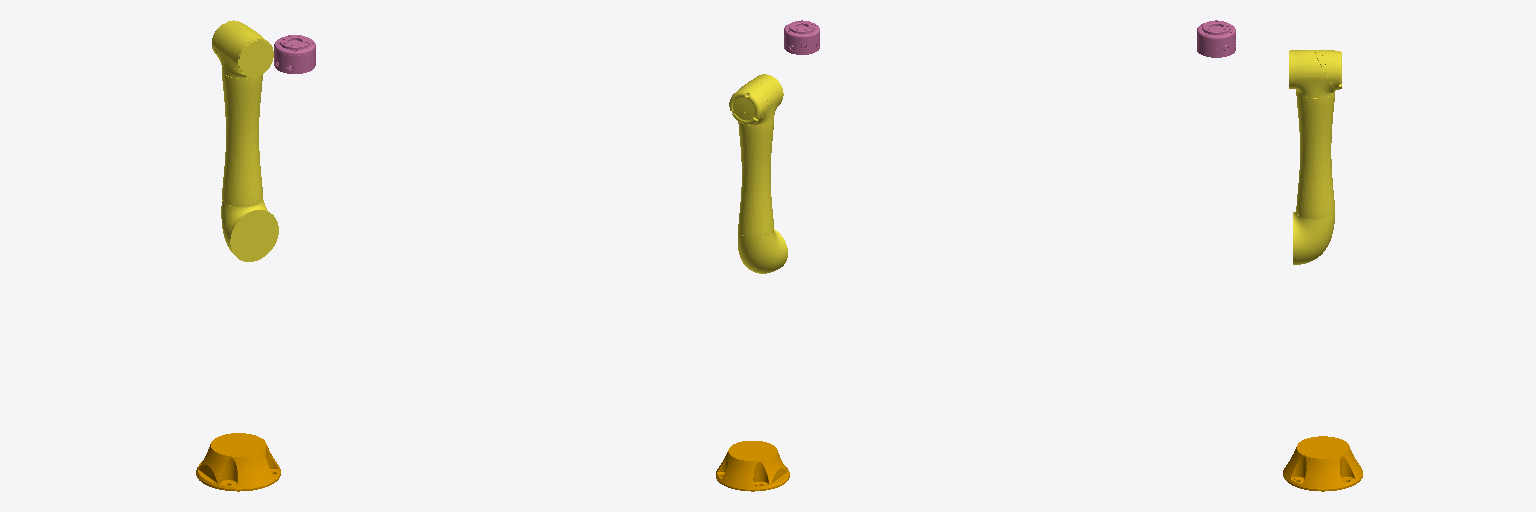
robot.urdf — tm5x-900:
<?xml version="1.0" ?>
<robot name="tm5x-900">

  <link name="link_0">
    <visual>
      <geometry>
        <mesh filename="package://tmr_description/meshes/tm5x-900/visual/tm5_base.obj"/>
      </geometry>
    </visual>
    <collision>
      <geometry>
        <mesh filename="package://tmr_description/meshes/tm5x-900/collision/tm5_base_c.stl"/>
      </geometry>
    </collision>
  </link>

  <joint name="joint_1" type="revolute">
    <parent link="link_0"/>
    <child link="link_1"/>
    <origin xyz="0 0 0.1452" rpy="0 0 0"/>
    <axis xyz="0 0 1"/>
    <limit effort="100.0" lower="-3.14" upper="3.14" velocity="1.0"/>
  </joint>

  <link name="link_1">
    <visual>
      <geometry>
        <mesh filename="package://tmr_description/meshes/tmxx-900/visual/tmr_400w_01.obj"/>
      </geometry>
    </visual>
    <collision>
      <geometry>
        <mesh filename="package://tmr_description/meshes/tm5x-900/collision/tmr_400w_01_c.stl"/>
      </geometry>
    </collision>
  </link>

  <joint name="joint_2" type="revolute">
    <parent link="link_1"/>
    <child link="link_2"/>
    <origin xyz="0 0 0" rpy="-1.570796327 -1.570796327 0"/>
    <axis xyz="0 0 1"/>
    <limit effort="100.0" lower="-3.14" upper="3.14" velocity="1.0"/>
  </joint>

  <link name="link_2">
    <visual>
      <geometry>
        <mesh filename="package://tmr_description/meshes/tm5x-900/visual/tm5-900_arm1.obj"/>
      </geometry>
    </visual>
    <collision>
      <geometry>
        <mesh filename="package://tmr_description/meshes/tm5x-900/collision/tm5-900_arm1_c.stl"/>
      </geometry>
    </collision>
  </link>

  <joint name="joint_3" type="revolute">
    <parent link="link_2"/>
    <child link="link_3"/>
    <origin  xyz="0.429 0 0" rpy="0 0 0"/>
    <axis xyz="0 0 1"/>
    <limit effort="100.0" lower="-3.14" upper="3.14" velocity="1.0"/>
  </joint>

  <link name="link_3">
    <visual>
      <geometry>
        <mesh filename="package://tmr_description/meshes/tm5x-900/visual/tm5-900_arm2.obj"/>
      </geometry>
    </visual>
    <collision>
      <geometry>
        <mesh filename="package://tmr_description/meshes/tm5x-900/collision/tm5-900_arm2_c.stl"/>
      </geometry>
    </collision>
  </link>

  <joint name="joint_4" type="revolute">
    <parent link="link_3"/>
    <child link="link_4"/>
    <origin xyz="0.4115 0 -0.1223" rpy="0 0 1.570796327"/>
    <axis xyz="0 0 1"/>
    <limit effort="10.0" lower="-3.14" upper="3.14" velocity="1.0"/>
  </joint>

  <link name="link_4">
    <visual>
      <geometry>
        <mesh filename="package://tmr_description/meshes/tm5x-900/visual/tmr_100w_01.obj"/>
      </geometry>
    </visual>
    <collision>
      <geometry>
        <mesh filename="package://tmr_description/meshes/tm5x-900/collision/tmr_100w_01_c.stl"/>
      </geometry>
    </collision>
  </link>

  <joint name="joint_5" type="revolute">
    <parent link="link_4"/>
    <child link="link_5"/>
    <origin xyz="0 -0.106 0" rpy="1.570796327 0 0"/>
    <axis xyz="0 0 1"/>
    <limit effort="10.0" lower="-3.14" upper="3.14" velocity="1.0"/>
  </joint>

  <link name="link_5">
    <visual>
      <geometry>
        <mesh filename="package://tmr_description/meshes/tm5x-900/visual/tmr_100w_02.obj"/>
      </geometry>
    </visual>
    <collision>
      <geometry>
        <mesh filename="package://tmr_description/meshes/tm5x-900/collision/tmr_100w_02_c.stl"/>
      </geometry>
    </collision>
  </link>

  <joint name="joint_6" type="revolute">
    <parent link="link_5"/>
    <child link="link_6"/>
    <origin xyz="0 -0.11315 0" rpy="1.570796327 0 0"/>
    <axis xyz="0 0 1"/>
    <limit effort="10.0" lower="-3.14" upper="3.14" velocity="1.0"/>
  </joint>

  <link name="link_6">
    <visual>
      <geometry>
        <mesh filename="package://tmr_description/meshes/tm5x-900/visual/tm5x_ee.obj"/>
      </geometry>
    </visual>
    <collision>
      <geometry>
        <mesh filename="package://tmr_description/meshes/tm5x-900/collision/tm5x_ee_c.stl"/>
      </geometry>
    </collision>
  </link>

  <link name="base" />
  <joint name="base_fixed_joint" type="fixed">
    <parent link="base"/>
    <child link="link_0"/>
    <origin xyz="0 0 0" rpy="0 0 0"/>
  </joint>

  <link name="flange"/>
  <joint name="flange_fixed_joint" type="fixed">
    <parent link="link_6"/>
    <child link="flange"/>
    <origin xyz="0 0 0" rpy="0 0 0"/>
  </joint>

</robot>

--- What the picture shows (computed from the rendered views, not written in the file) ---
Views: 3 orthographic renders of the robot side by side, from view 1: azimuth 30°, elevation 25°; view 2: azimuth 150°, elevation 25°; view 3: azimuth 270°, elevation 25°.
Model tm5x-900 with 9 links and 8 joints (6 revolute, 2 fixed), rooted at base, posed every joint at zero.
Visible links, largest first — view 1: link_3, link_0, link_6; view 2: link_3, link_0, link_6; view 3: link_3, link_0, link_6.
Boxes of the visible links, x1,y1,x2,y2 form: link_3: (212,20,278,261); link_0: (196,433,280,491); link_6: (274,35,315,73); link_3: (729,74,787,273); link_0: (716,441,789,491); link_6: (784,20,819,54); link_3: (1289,50,1341,264); link_0: (1283,436,1362,491); link_6: (1197,20,1235,57).
Bounding box of the posed robot: 0.177 × 0.3673 × 1.09 m (x, y, z).
Meshes: 7 distinct files referenced, 3 mesh visuals loaded (3 OBJ); not drawn: 4 (reference not matched to a file when rendering).